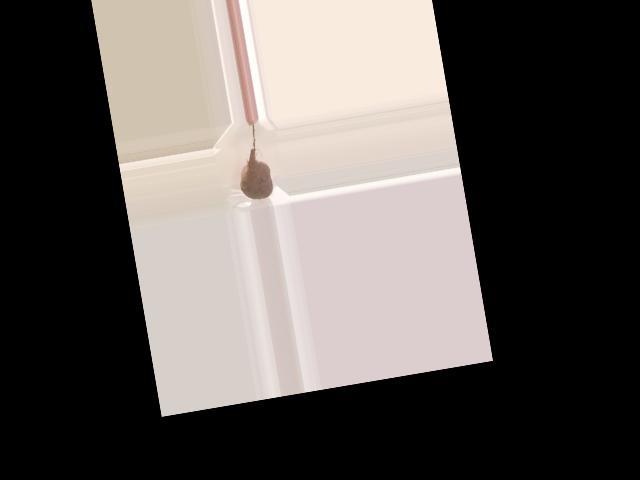beet: (229, 121, 274, 202)
